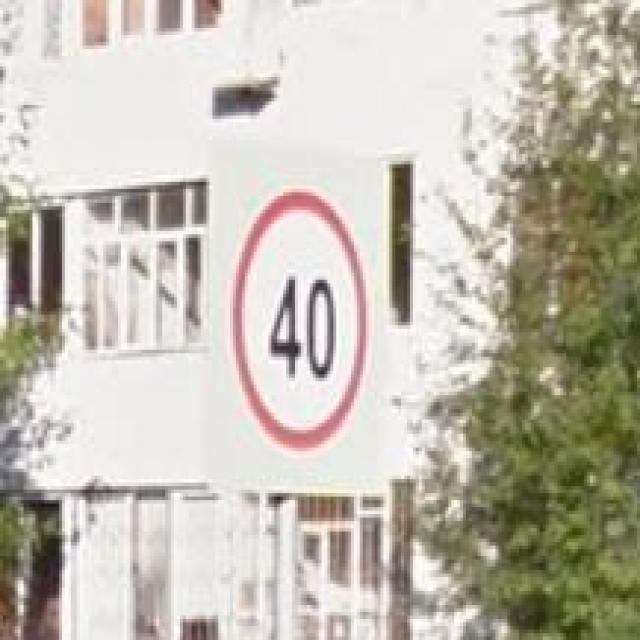Ograniczenie predkosci do 40: (230, 182, 369, 452)
